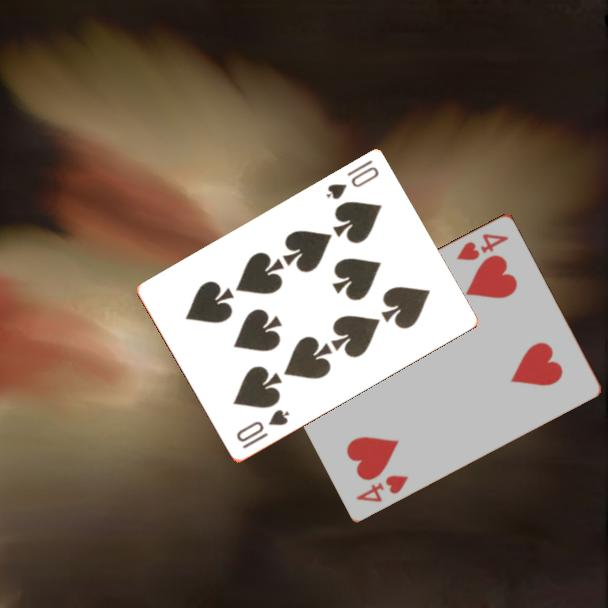h04: (352, 471, 412, 505), (453, 229, 512, 263)
s10: (322, 157, 382, 203), (233, 406, 292, 452)
